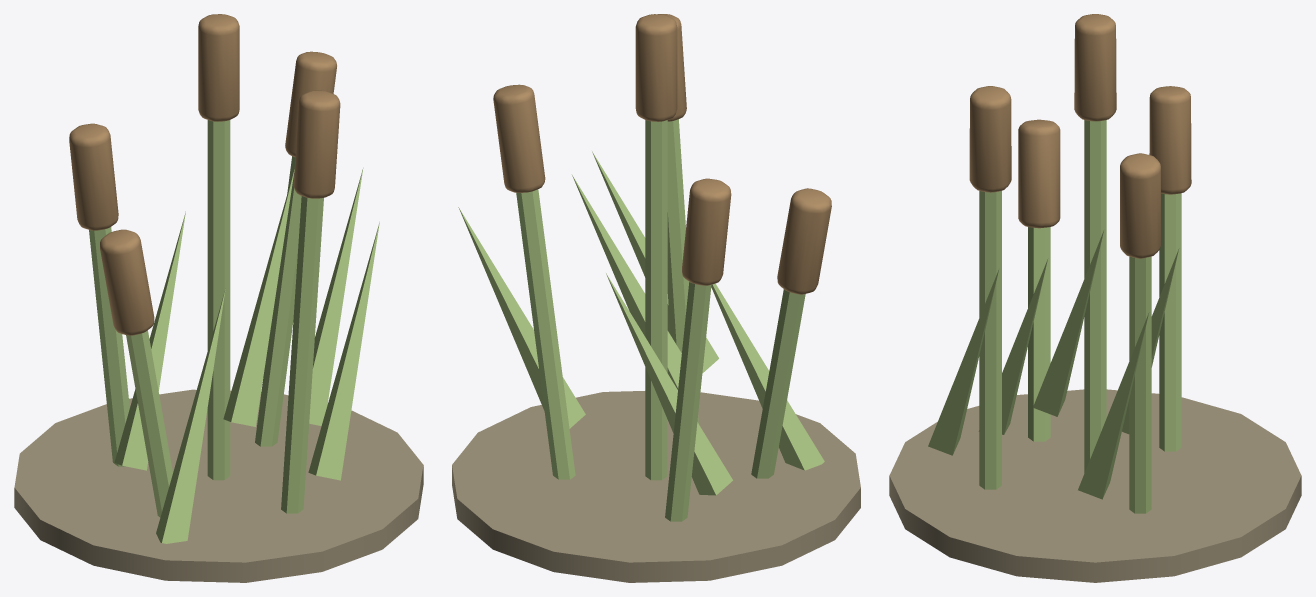
The model's file is decor_reed.glb.
3 renders of one model, left to right at view 1: azimuth 30°, elevation 25°; view 2: azimuth 150°, elevation 25°; view 3: azimuth 270°, elevation 25°, orthographic.
Parts seen in each view (by area): view 1: Mud, Stalk, Stalk.003, Stalk.001, Leaf, Leaf.003, Leaf.004, Cattail.003, Cattail, Cattail.002, Cattail.004, Stalk.004 (+4 smaller); view 2: Mud, Stalk, Stalk.001, Stalk.002, Cattail, Cattail.001, Stalk.004, Cattail.002, Cattail.004, Stalk.003, Leaf.002, Leaf.004 (+4 smaller); view 3: Mud, Stalk, Stalk.003, Stalk.001, Stalk.002, Cattail.004, Cattail, Cattail.003, Stalk.004, Cattail.001, Cattail.002, Leaf (+4 smaller).
Boxes of the visible parts, box(x1,y1,x2,y2) form: Mud: box(14, 389, 423, 582); Stalk: box(207, 120, 230, 480); Stalk.003: box(281, 196, 323, 513); Stalk.001: box(255, 156, 301, 446); Leaf: box(223, 169, 294, 426); Leaf.003: box(308, 221, 379, 480); Leaf.004: box(156, 289, 225, 543); Cattail.003: box(293, 90, 340, 198); Cattail: box(198, 14, 239, 121); Cattail.002: box(69, 123, 118, 230); Cattail.004: box(100, 229, 154, 335); Stalk.004: box(126, 330, 172, 517); Mud: box(452, 391, 860, 582); Stalk: box(645, 120, 667, 480); Stalk.001: box(516, 189, 575, 479); Stalk.002: box(665, 282, 711, 521); Cattail: box(635, 14, 677, 121); Cattail.001: box(493, 84, 545, 192); Stalk.004: box(751, 289, 805, 478); Cattail.002: box(682, 178, 731, 285); Cattail.004: box(777, 188, 831, 294); Stalk.003: box(667, 119, 698, 423); Leaf.002: box(606, 273, 732, 495); Leaf.004: box(711, 283, 824, 470); Mud: box(889, 389, 1301, 582); Stalk: box(1084, 120, 1106, 472); Stalk.003: box(979, 191, 1001, 489); Stalk.001: box(1129, 256, 1151, 513); Stalk.002: box(1159, 193, 1181, 451); Cattail.004: box(1018, 119, 1060, 228); Cattail: box(1074, 14, 1116, 121); Cattail.003: box(969, 86, 1011, 192); Stalk.004: box(1028, 227, 1050, 441); Cattail.001: box(1120, 153, 1160, 258); Cattail.002: box(1149, 86, 1191, 194); Leaf: box(1033, 230, 1103, 416).
Size of the model in its own units: 1.1 by 1.4 by 1.1.
